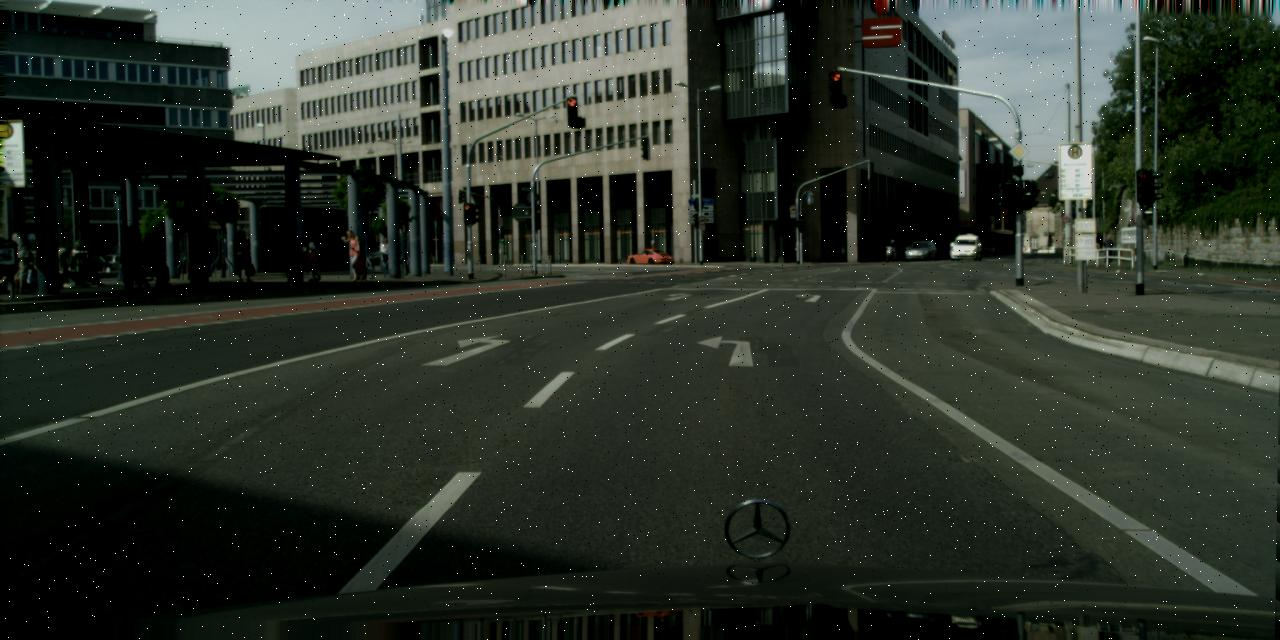ped: (4, 222, 34, 293), (117, 224, 143, 290), (232, 228, 254, 280), (343, 230, 364, 280), (302, 241, 326, 283), (380, 237, 395, 274), (1102, 234, 1114, 263), (888, 239, 896, 259), (840, 242, 846, 262)
